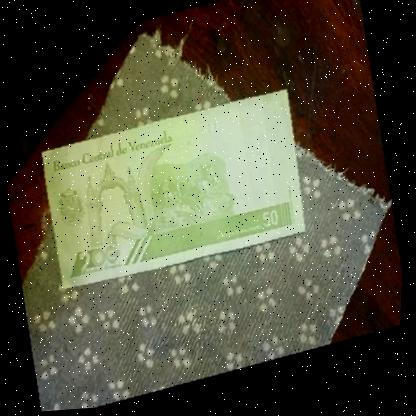fifty-back-vef: (36, 91, 315, 293)
